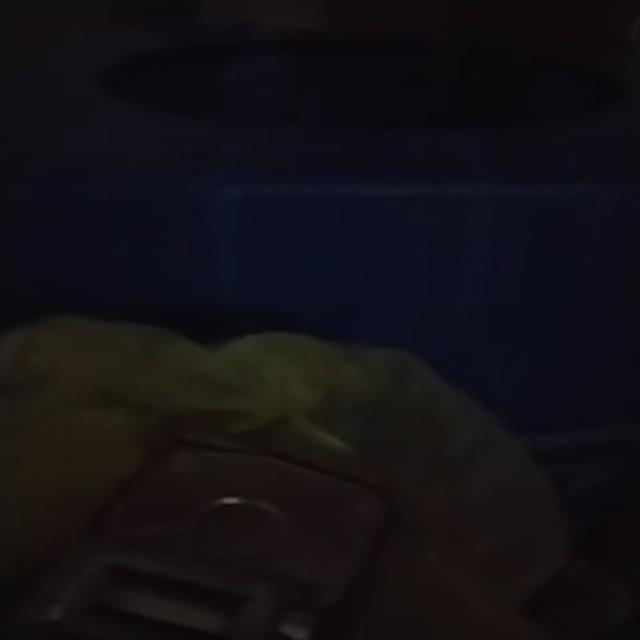metal: (4, 444, 388, 640)
